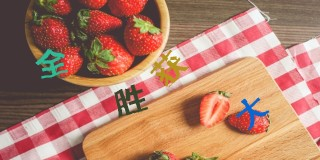全: (35, 47, 68, 79)
大: (236, 97, 269, 130)
胜: (114, 84, 152, 117)
获: (151, 50, 188, 85)
